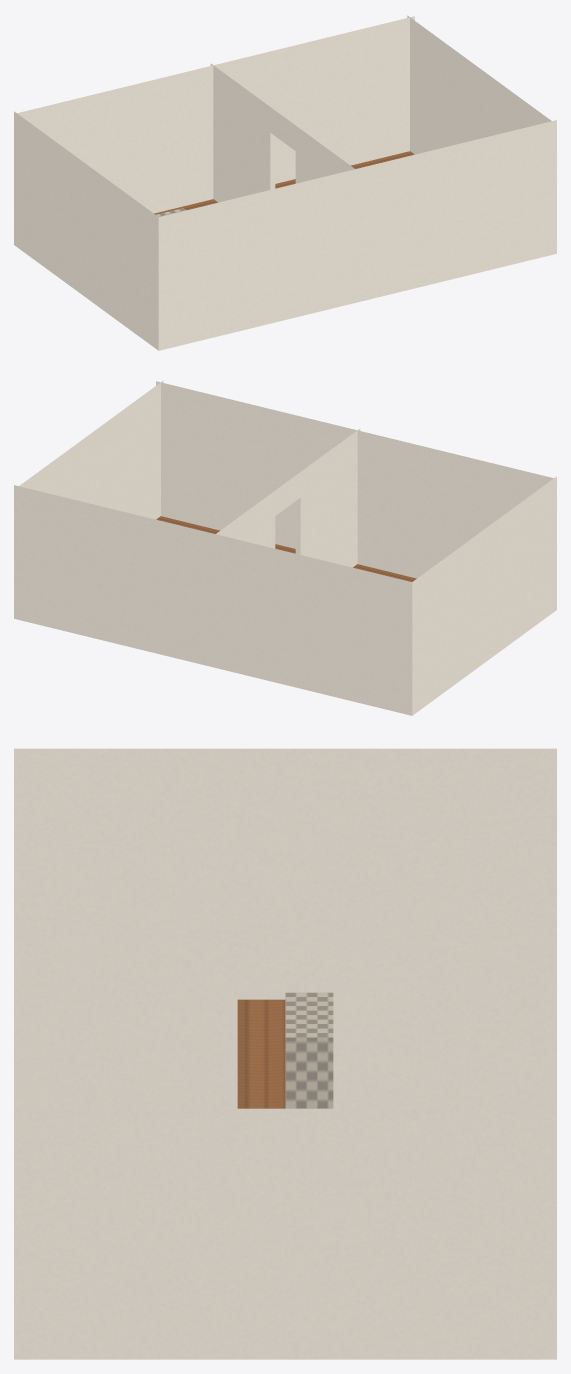
File: synthetic-two-room.model.glb
The picture shows the model from 3 angles, top to bottom: view 1: azimuth 30°, elevation 25°; view 2: azimuth 150°, elevation 25°; view 3: azimuth 270°, elevation 25°; orthographic projection. The views are drawn at different scales.
Visible parts, largest first — view 1: wall-south-seg0:a, wall-north-seg0:b, wall-west-seg0:a, wall-east-seg0:b, wall-divider-seg0:a, wall-divider-seg1:a, wall-divider-lintel-door-0:a, floor-0-poly0; view 2: wall-north-seg0:a, wall-south-seg0:b, wall-west-seg0:a, wall-east-seg0:b, wall-divider-seg1:a, wall-divider-seg0:a, floor-0-poly0, wall-divider-lintel-door-0:a; view 3: wall-east-seg0:a, wall-west-seg0:b, wall-divider-seg0:b, wall-divider-seg1:b, floor-0-poly0, wall-divider-lintel-door-0:b, table-0:side1, table-0:top.
Part boxes in pixels (x1,y1,x2,y2): wall-south-seg0:a: (158,120,556,350); wall-north-seg0:b: (17,16,414,213); wall-west-seg0:a: (14,111,158,350); wall-east-seg0:b: (407,15,551,154); wall-divider-seg0:a: (210,63,270,202); wall-divider-seg1:a: (295,126,354,183); wall-divider-lintel-door-0:a: (270,107,295,150); floor-0-poly0: (154,151,414,214); wall-north-seg0:a: (14,485,412,715); wall-south-seg0:b: (156,381,553,578); wall-west-seg0:a: (412,476,556,715); wall-east-seg0:b: (19,380,163,519); wall-divider-seg1:a: (300,428,360,567); wall-divider-seg0:a: (216,491,275,548); floor-0-poly0: (156,516,416,581); wall-divider-lintel-door-0:a: (275,472,300,515); wall-east-seg0:a: (14,1108,556,1359); wall-west-seg0:b: (14,748,556,999); wall-divider-seg0:b: (333,928,556,1108); wall-divider-seg1:b: (14,928,237,1108); floor-0-poly0: (237,999,285,1108); wall-divider-lintel-door-0:b: (237,928,333,976); table-0:side1: (285,1037,333,1108); table-0:top: (285,992,333,1037).
Bounding box in the file's own units: 8.1 × 2.6 × 5.1.
1 material, 1 textured.
